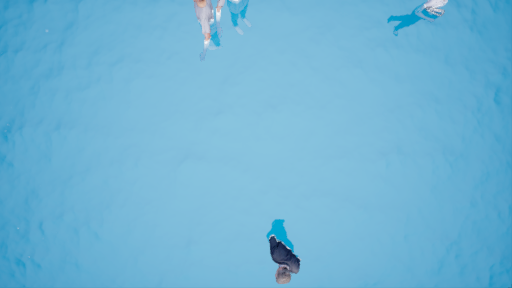person: (264, 216, 308, 286), (386, 1, 463, 37), (192, 1, 230, 64), (227, 1, 263, 45)
